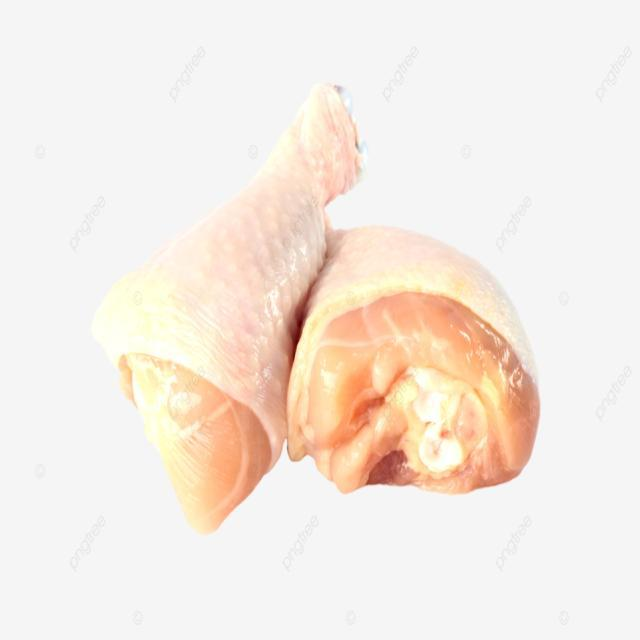leg: (80, 85, 330, 518), (283, 220, 539, 496)
